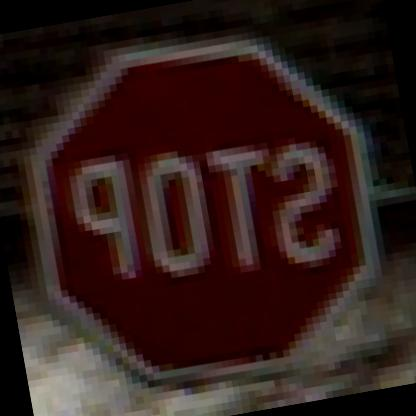stop: (3, 22, 413, 407)
